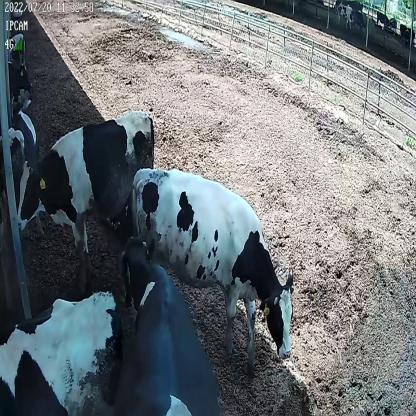cow: (130, 161, 296, 383), (14, 106, 157, 260), (117, 232, 225, 416)
